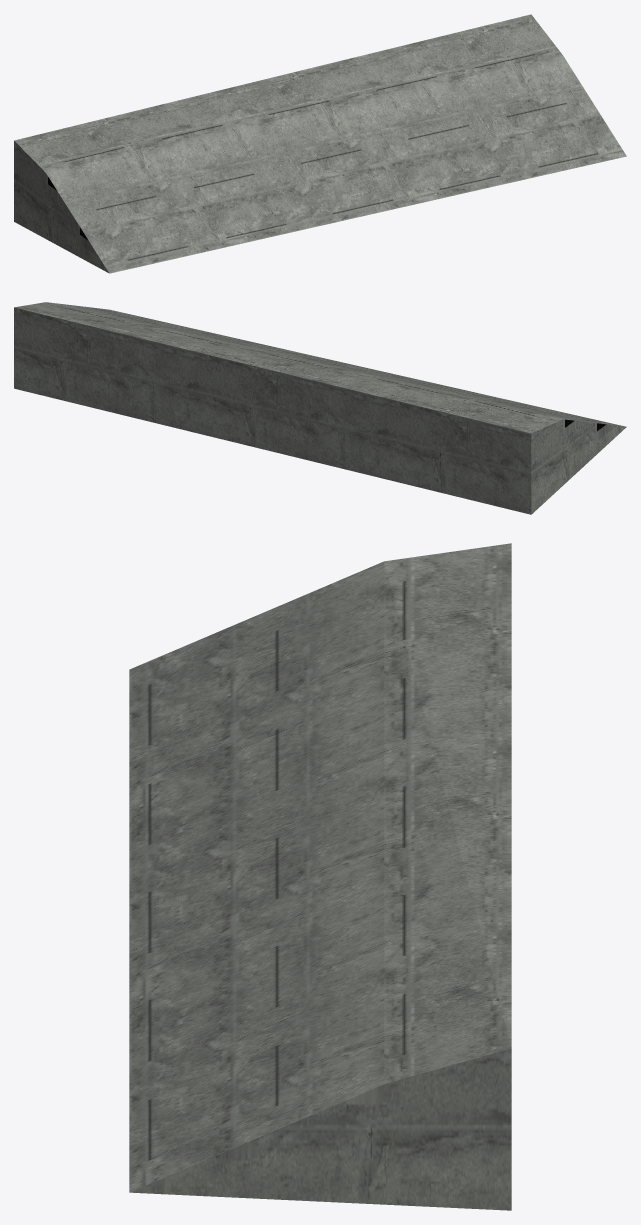
File: StairFlight_LOD1.fbx
3 renders of one model, top to bottom at view 1: azimuth 30°, elevation 25°; view 2: azimuth 150°, elevation 25°; view 3: azimuth 270°, elevation 25°, orthographic. The views are drawn at different scales.
Visible parts, largest first — view 1: StairFlight.001; view 2: StairFlight.001; view 3: StairFlight.001.
Boxes of the visible parts, x1,y1,x2,y2 form: StairFlight.001: (14, 14, 626, 273); StairFlight.001: (14, 302, 626, 514); StairFlight.001: (129, 543, 511, 1210).
Bounding box in the file's own units: 3 × 0.45 × 0.96.
Materials: 1 (1 with a texture image).
